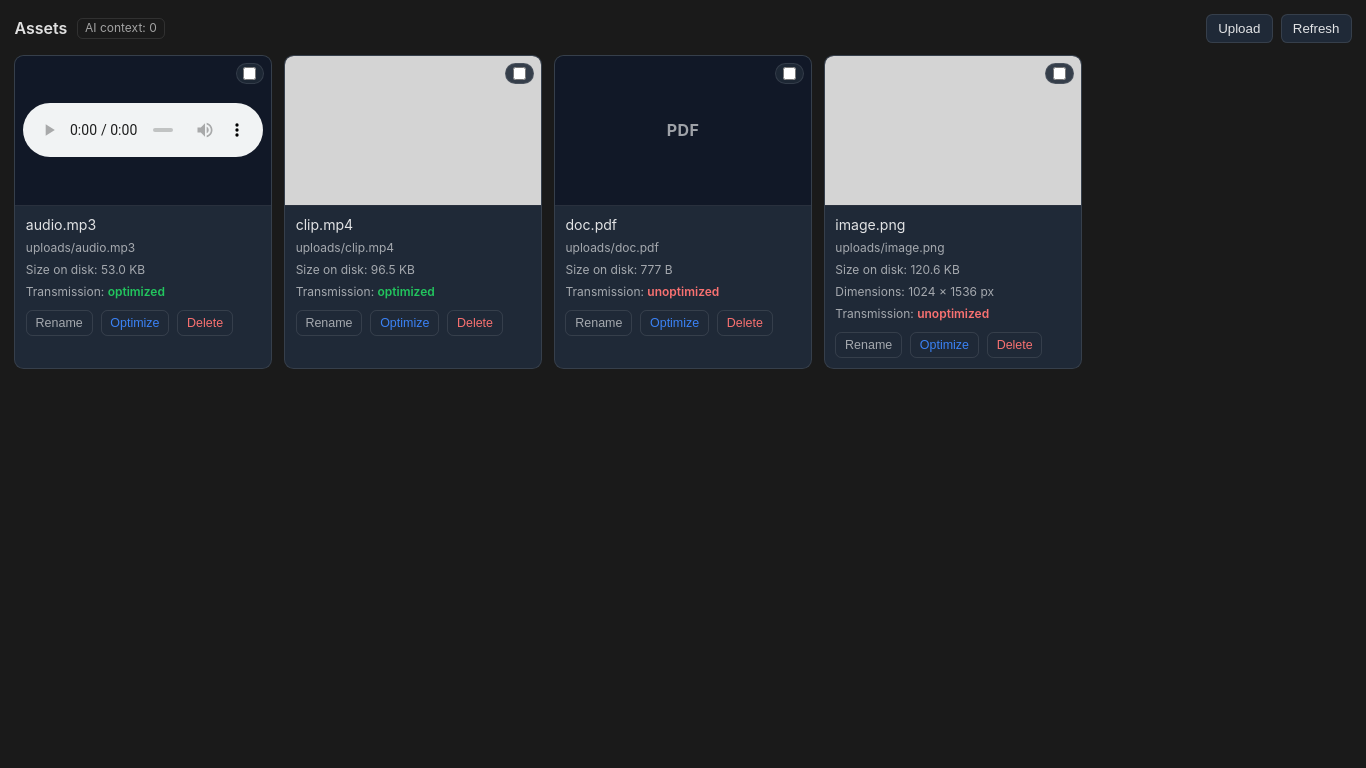
Test: AssetsTab › shows inline error when rename endpoint throws
Click the button with class "assets-tab__action--rename" below "53.0 KB" at (59, 323), box x1=26 y1=310 x2=92 y2=336
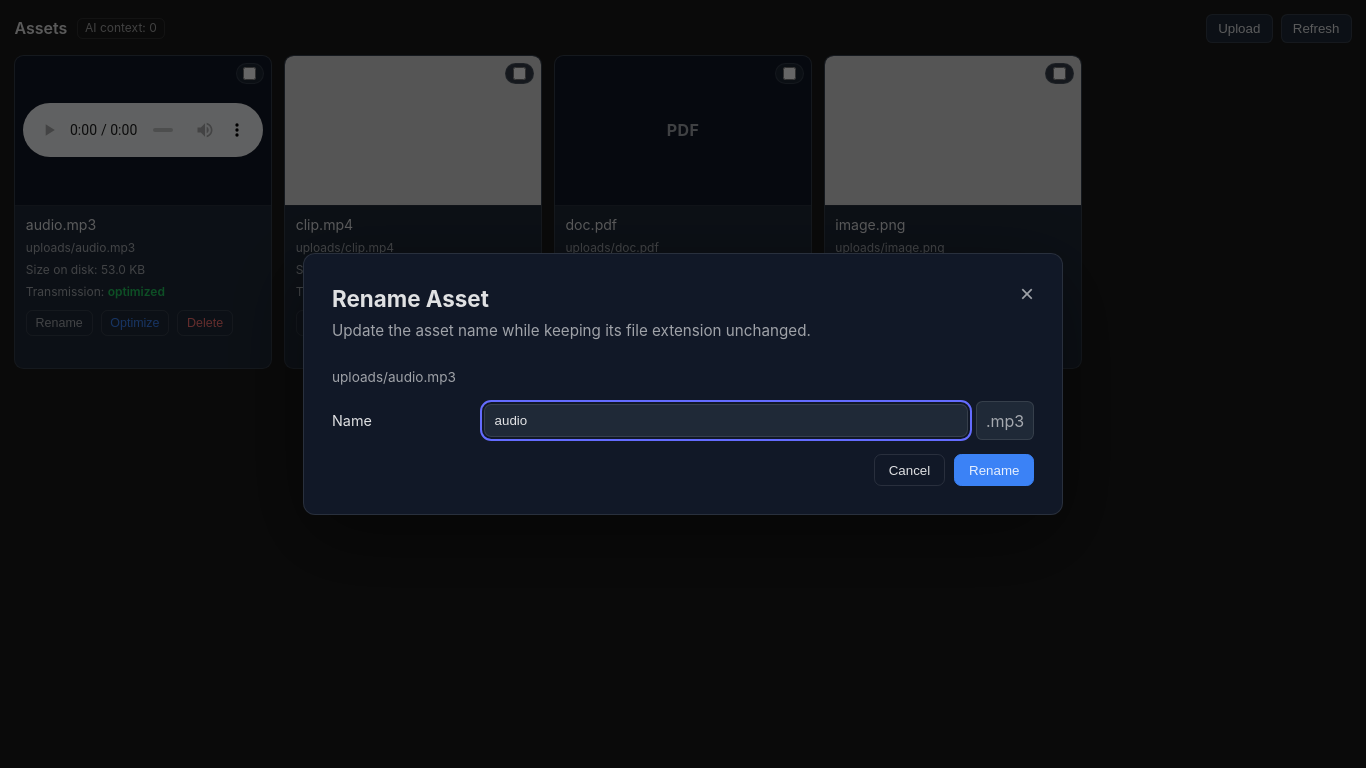
Replace the text in the field labelled "Name .mp3" with "hero" at (726, 421), box x1=484 y1=404 x2=968 y2=437
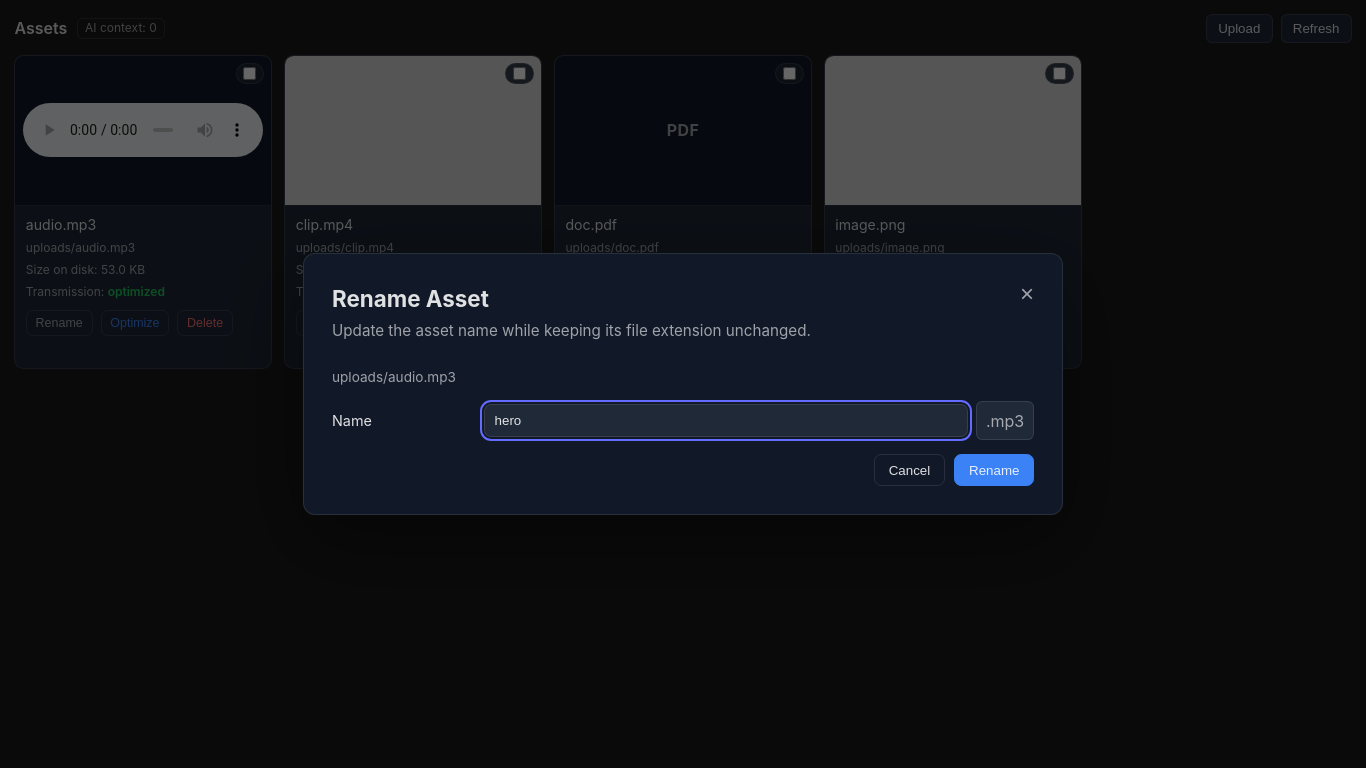
Click the button "Rename" at (994, 470), box x1=954 y1=454 x2=1034 y2=486
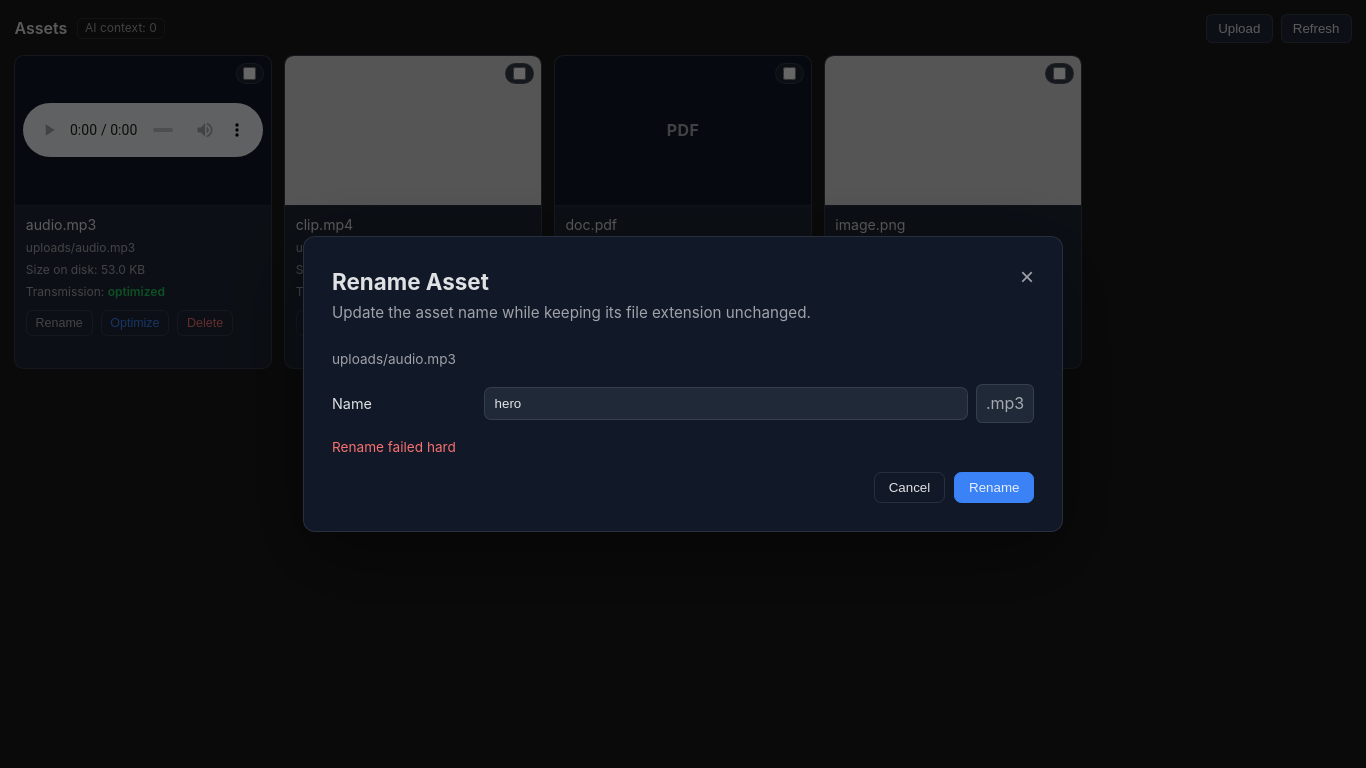
Expected: the text with test id "asset-rename-error" reads "Rename failed hard", x1=332 y1=439 x2=456 y2=455
